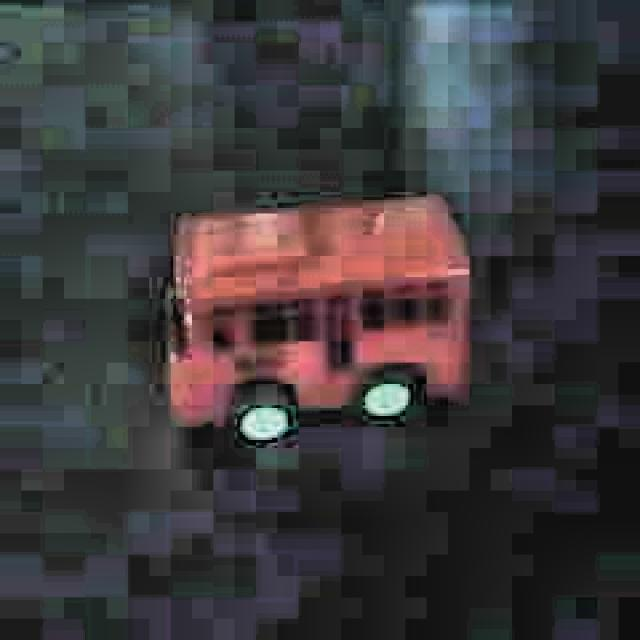bus: (157, 187, 482, 456)
